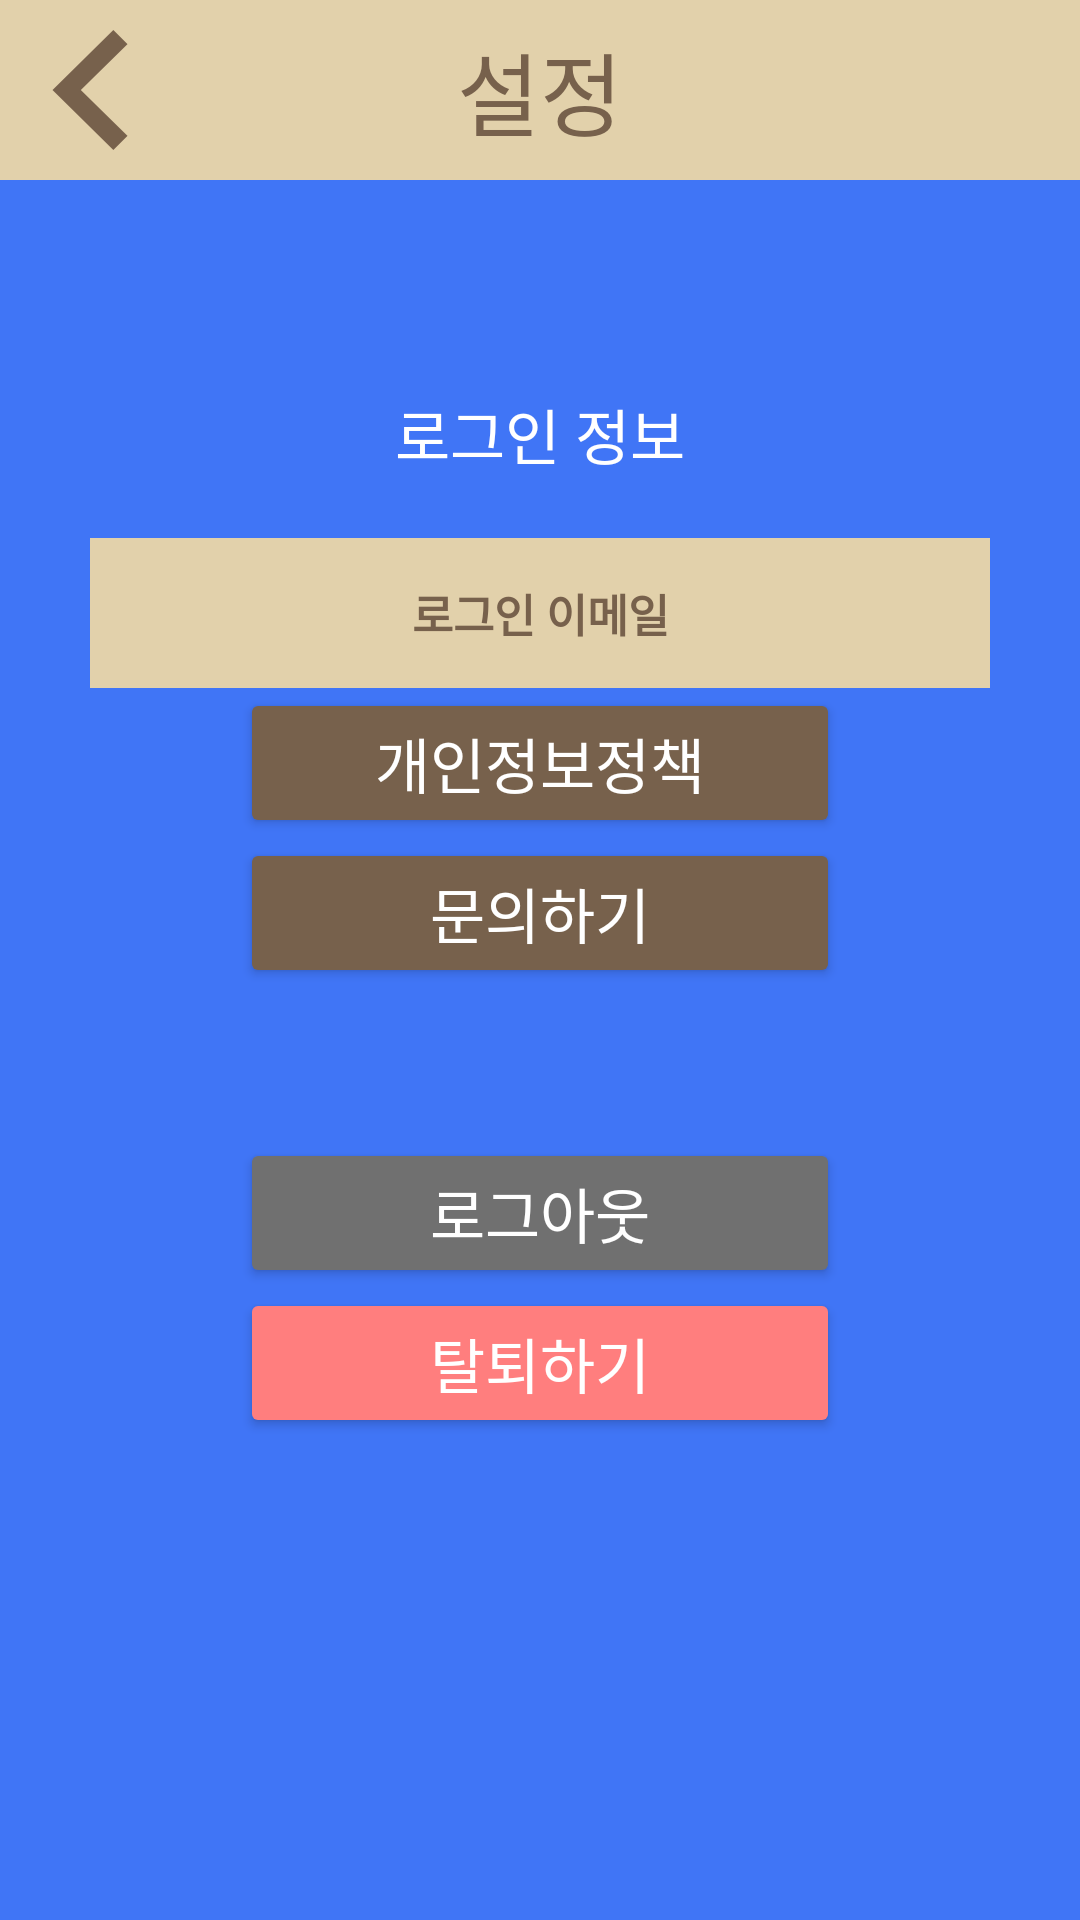

Screen size 1080x1920. Icon name, then its box in pixels as region(x1, y1, x2, y2):
back: region(53, 30, 127, 150)
